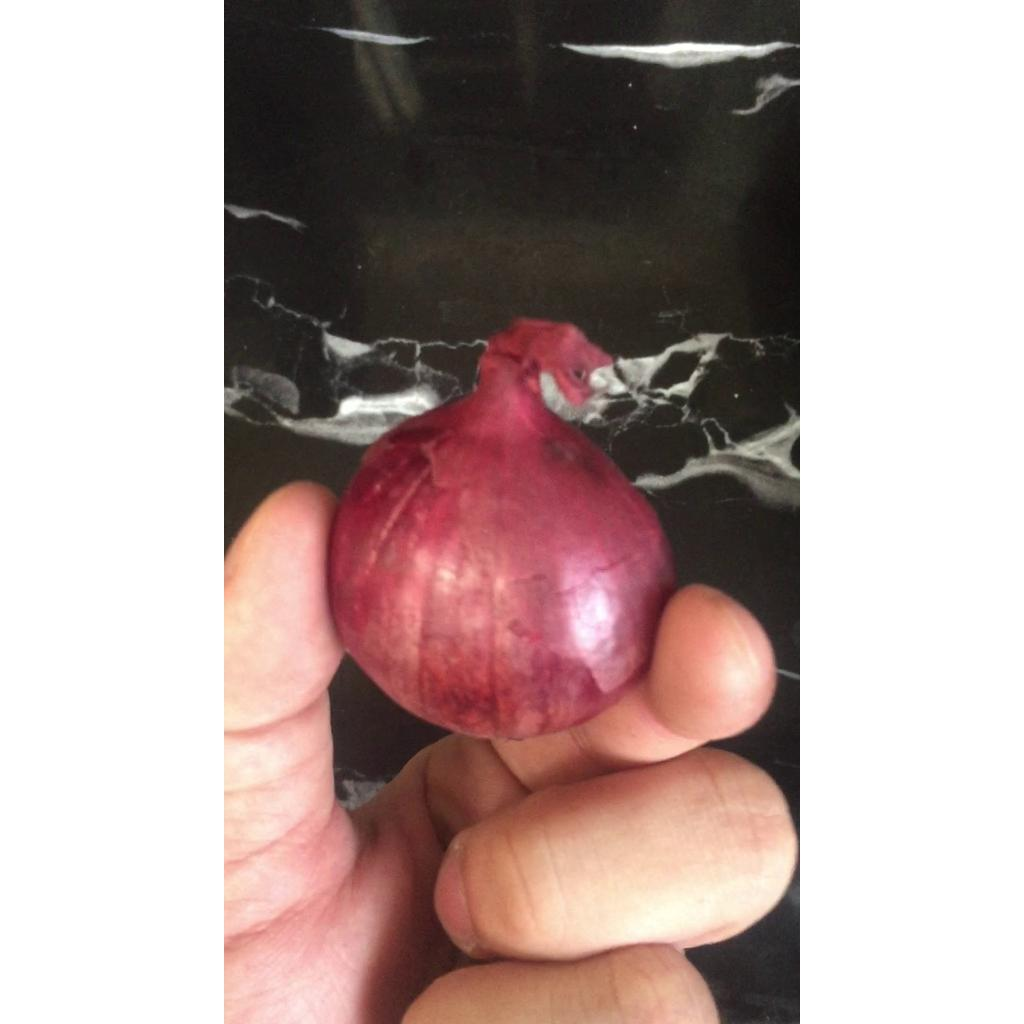Onion: (328, 320, 675, 739)
